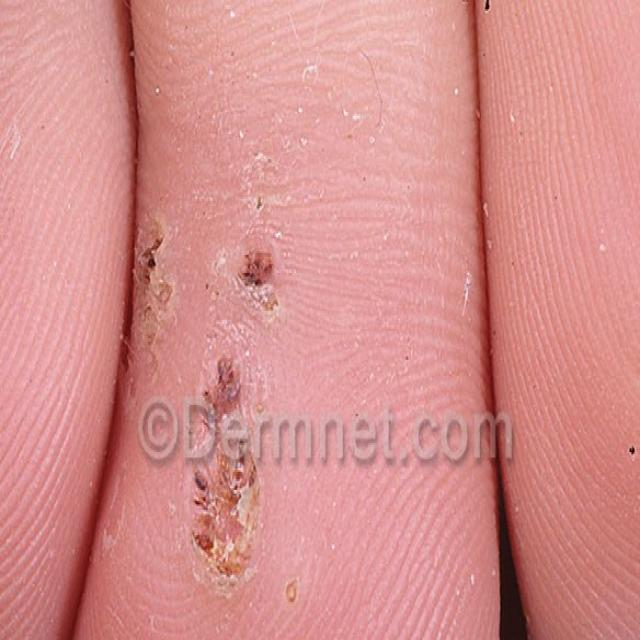Warts: (132, 220, 291, 600)
